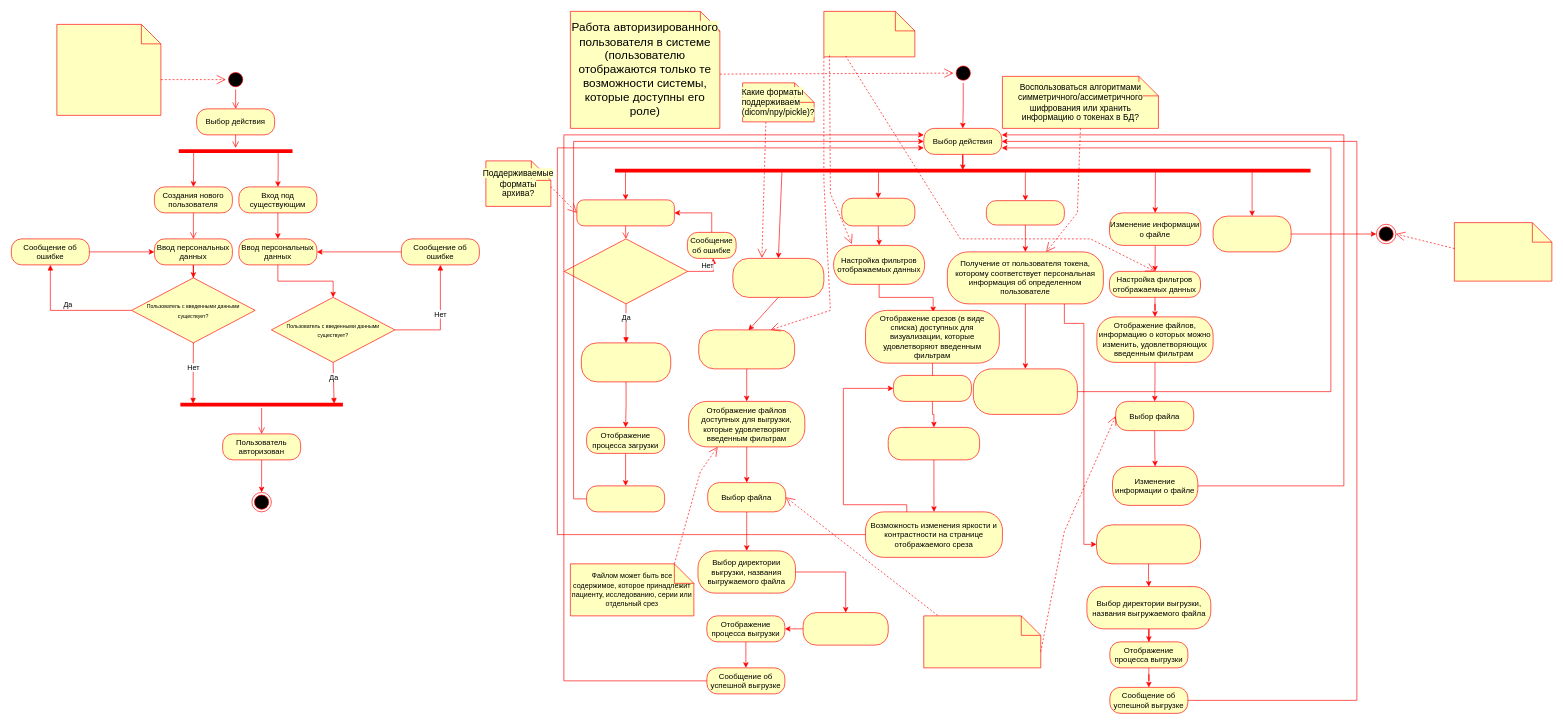
This 1563x725 diagram has some shape labels left out. Here are the shapes that lost their labels. From the top down, the centre of each, then its label:
point (869, 34): Возможность фильтрации по пациенту, исследованию, серии
point (108, 69): Процесс авторизации и аутентификации
point (625, 212): Загрузка данных в формате архива
point (878, 212): Визуализация отображаемых данных
point (1025, 212): Деаномизация данных
point (1251, 233): Выход из авторизированного пользователя
point (1503, 251): Переход на процесс авторизации и аутентификации
point (626, 271): Является ли файл архивом, формата поддерживаемого сервисом?
point (778, 277): Выгрузка данных на компьютер пользователя
point (626, 362): Индексация загружаемых данных
point (746, 349): Настройка фильтров выгружаемых данных
point (932, 388): Выбор среза
point (1025, 391): Отображение персональной информации пациента
point (934, 443): Отображение выбранного среза
point (625, 498): Сообщение об успешной загрузке
point (1148, 544): Выгрузка персональных данных пациента в JSON
point (845, 628): Аномизация выгружаемых данных
point (982, 641): Отображение информации о выбранном файле?
